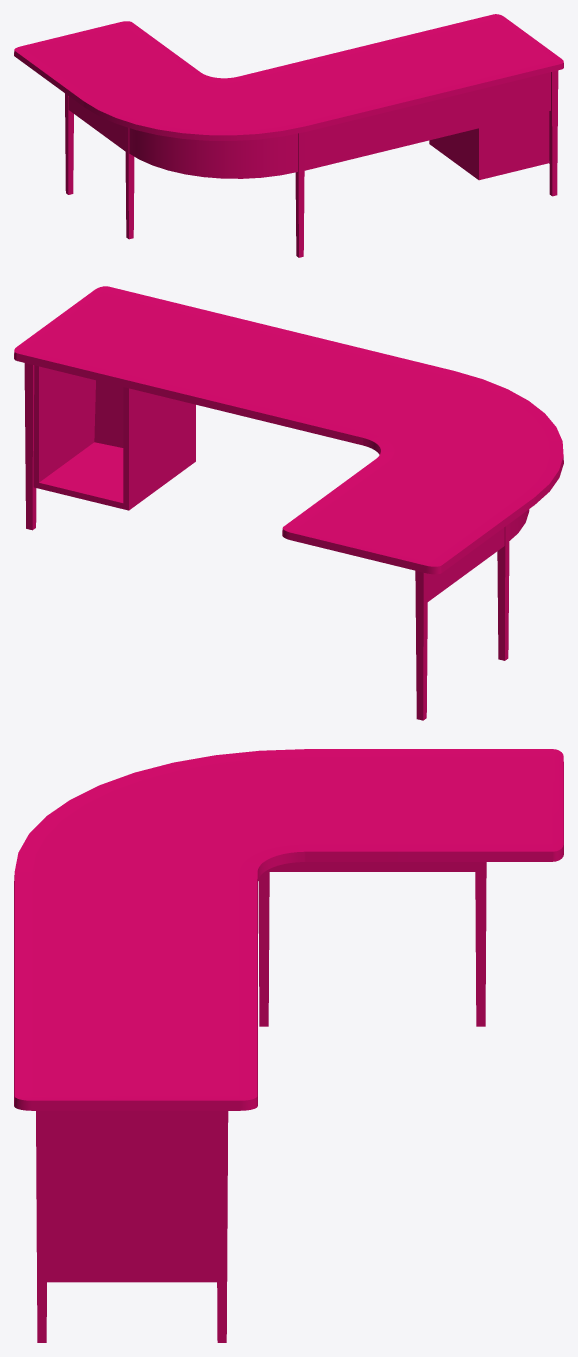
File: Desk_02B.fbx
3 views of the same model, one above another, from view 1: azimuth 30°, elevation 25°; view 2: azimuth 150°, elevation 25°; view 3: azimuth 270°, elevation 25° (orthographic). The views are drawn at different scales.
Visible parts, largest first — view 1: Desk_02B; view 2: Desk_02B; view 3: Desk_02B.
Boxes of the visible parts, x1,y1,x2,y2 form: Desk_02B: (14, 14, 563, 257); Desk_02B: (14, 286, 563, 720); Desk_02B: (14, 749, 563, 1342).
Size of the model in its own units: 229 by 74.32 by 151.
